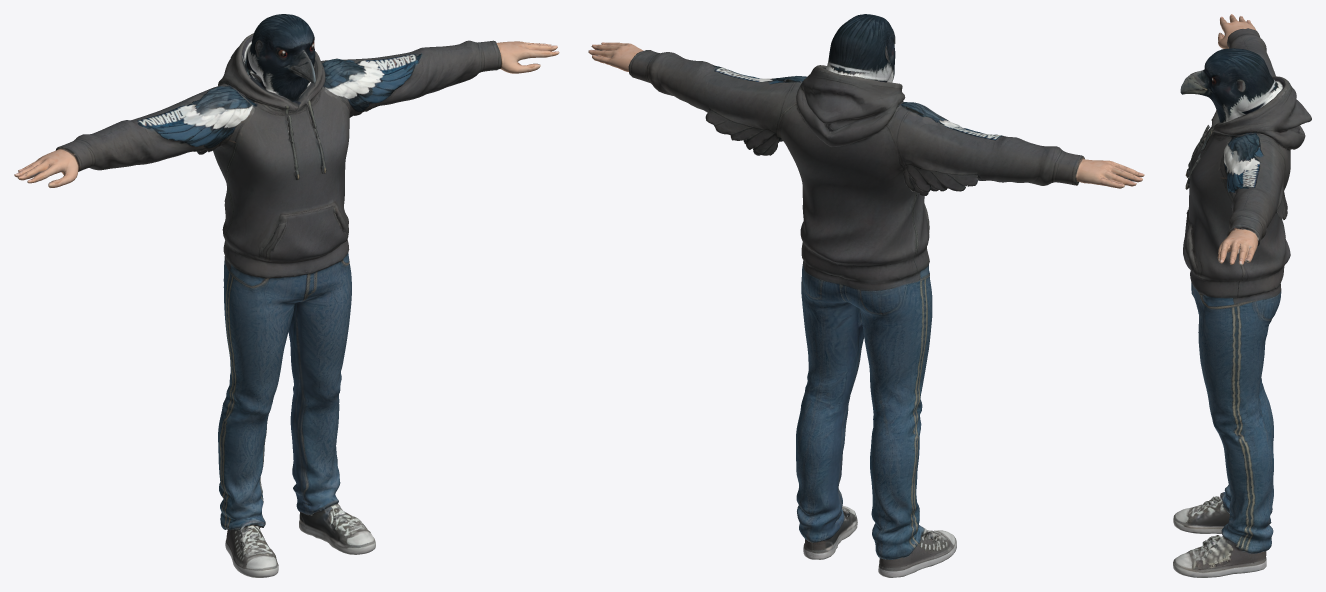
The model's file is 03_Magpie.fbx.
3 views of the same model, side by side, from view 1: azimuth 30°, elevation 25°; view 2: azimuth 150°, elevation 25°; view 3: azimuth 270°, elevation 25° (orthographic). The views are drawn at different scales.
Parts seen in each view (by area): view 1: texture_mapping; view 2: texture_mapping; view 3: texture_mapping.
Part boxes in pixels (x1,y1,x2,y2): texture_mapping: (14,14,559,577); texture_mapping: (588,14,1144,577); texture_mapping: (1173,14,1311,577).
Bounding box in the file's own units: 0.9945 × 0.9263 × 0.2347.
Materials: 1 (1 with a texture image).
